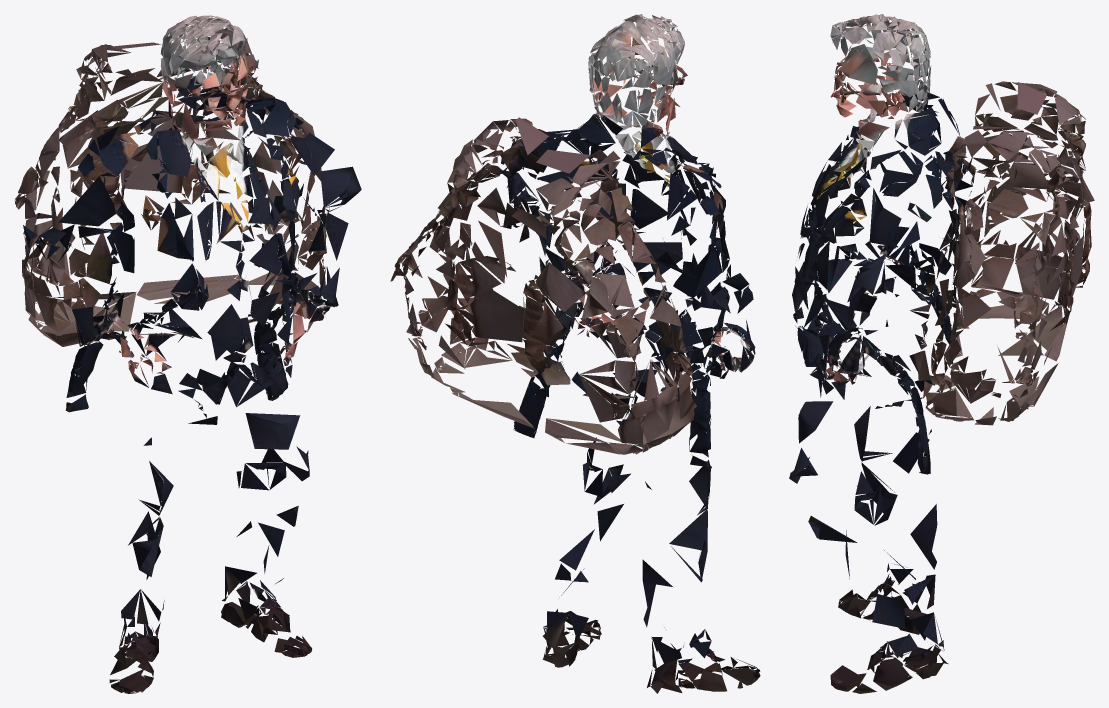
File: middle_aged_man.glb
3 views of the same model, side by side, from view 1: azimuth 30°, elevation 25°; view 2: azimuth 150°, elevation 25°; view 3: azimuth 270°, elevation 25° (orthographic).
Parts seen in each view (by area): view 1: Mesh_0; view 2: Mesh_0; view 3: Mesh_0.
Part boxes in pixels (x1,y1,x2,y2): Mesh_0: (14,15,361,693); Mesh_0: (390,14,760,693); Mesh_0: (789,14,1094,693).
Size of the model in its own units: 0.5204 by 1 by 0.4355.
1 material, 1 textured.
